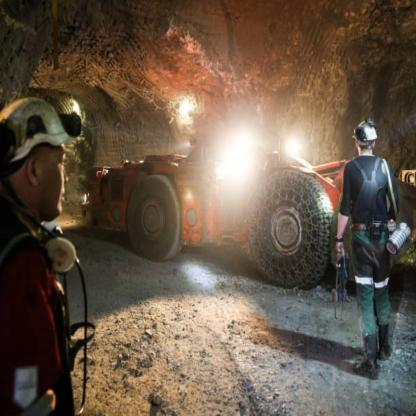person: (0, 87, 104, 408), (333, 103, 416, 380)
